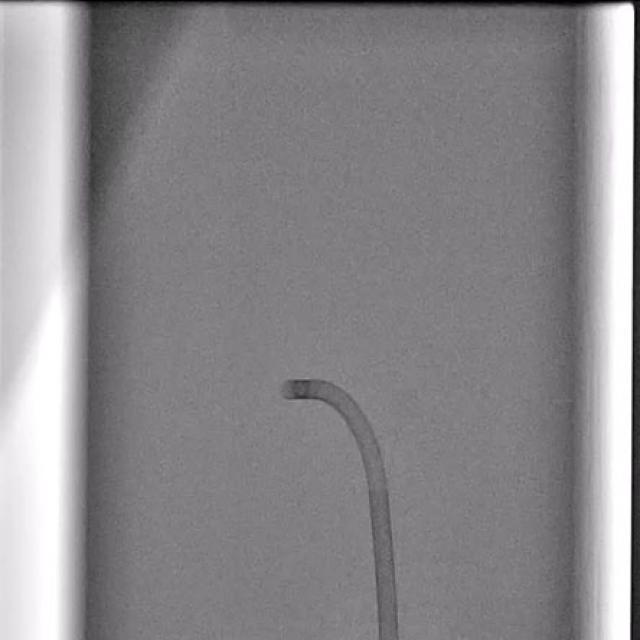bend: (368, 478, 388, 490)
entry: (379, 634, 398, 640)
marker: (294, 380, 312, 398)
tip: (281, 381, 290, 399)
